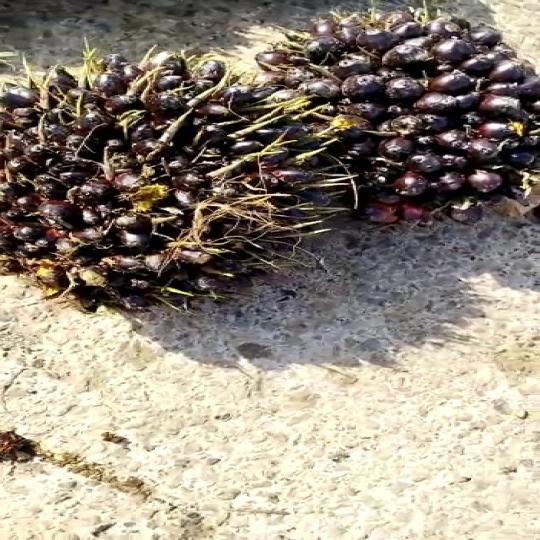mentah: (0, 55, 351, 317), (240, 6, 540, 220)
